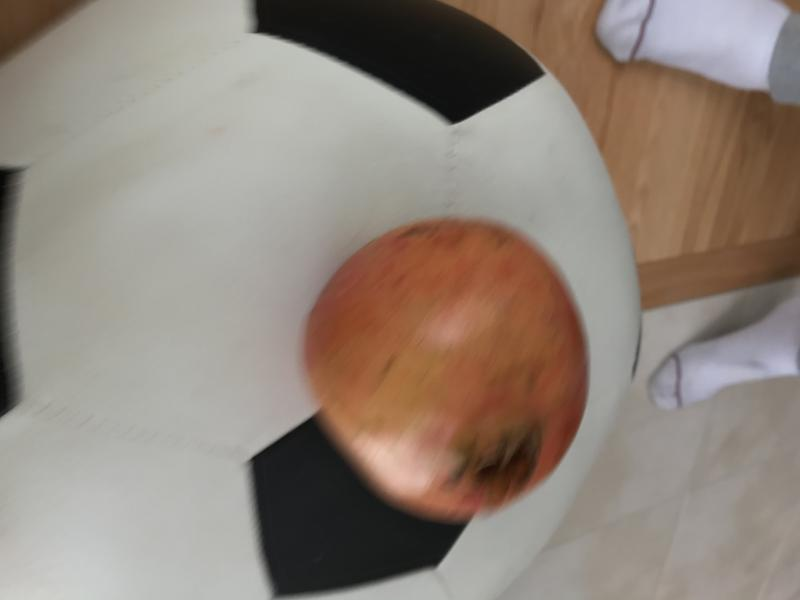pomegranate: (293, 204, 595, 530)
